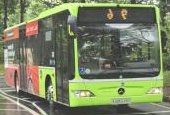bus: (103, 6, 132, 23)
